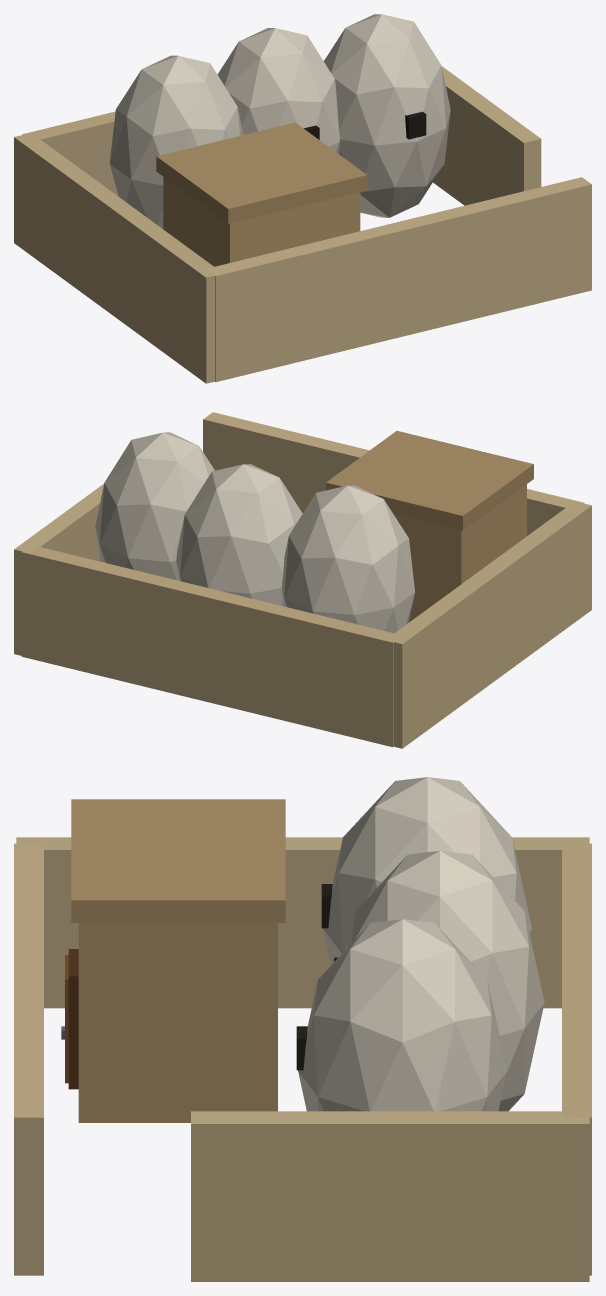
The model's file is gnoll_house_c_broken.glb.
3 views of the same model, one above another, from view 1: azimuth 30°, elevation 25°; view 2: azimuth 150°, elevation 25°; view 3: azimuth 270°, elevation 25° (orthographic). The views are drawn at different scales.
Visible parts, largest first — view 1: gnoll_house_c_piece10, gnoll_house_c_piece2, gnoll_house_c_piece7, gnoll_house_c_piece1, gnoll_house_c_piece9, gnoll_house_c_piece0, gnoll_house_c_piece5, gnoll_house_c_piece4, gnoll_house_c_piece6, gnoll_house_c_piece3, gnoll_house_c_piece8; view 2: gnoll_house_c_piece1, gnoll_house_c_piece3, gnoll_house_c_piece8, gnoll_house_c_piece7, gnoll_house_c_piece2, gnoll_house_c_piece4, gnoll_house_c_piece10, gnoll_house_c_piece0, gnoll_house_c_piece9, gnoll_house_c_piece5; view 3: gnoll_house_c_piece4, gnoll_house_c_piece0, gnoll_house_c_piece2, gnoll_house_c_piece6, gnoll_house_c_piece3, gnoll_house_c_piece1, gnoll_house_c_piece7, gnoll_house_c_piece10, gnoll_house_c_piece9, gnoll_house_c_piece8, gnoll_house_c_piece5.
Part boxes in pixels (left/top/right/bottom): gnoll_house_c_piece10: left=366, top=177, right=591, bottom=344; gnoll_house_c_piece2: left=86, top=32, right=331, bottom=315; gnoll_house_c_piece7: left=114, top=157, right=271, bottom=383; gnoll_house_c_piece1: left=14, top=55, right=246, bottom=310; gnoll_house_c_piece9: left=231, top=173, right=370, bottom=371; gnoll_house_c_piece0: left=261, top=143, right=425, bottom=334; gnoll_house_c_piece5: left=281, top=54, right=541, bottom=164; gnoll_house_c_piece4: left=332, top=14, right=532, bottom=181; gnoll_house_c_piece6: left=353, top=147, right=541, bottom=217; gnoll_house_c_piece3: left=240, top=28, right=366, bottom=214; gnoll_house_c_piece8: left=217, top=41, right=247, bottom=79; gnoll_house_c_piece1: left=198, top=486, right=493, bottom=748; gnoll_house_c_piece3: left=14, top=464, right=286, bottom=673; gnoll_house_c_piece8: left=90, top=491, right=289, bottom=699; gnoll_house_c_piece7: left=407, top=462, right=591, bottom=676; gnoll_house_c_piece2: left=245, top=464, right=519, bottom=681; gnoll_house_c_piece4: left=14, top=432, right=207, bottom=590; gnoll_house_c_piece10: left=203, top=412, right=369, bottom=513; gnoll_house_c_piece0: left=354, top=431, right=483, bottom=476; gnoll_house_c_piece9: left=446, top=452, right=567, bottom=535; gnoll_house_c_piece5: left=204, top=455, right=378, bottom=481; gnoll_house_c_piece4: left=214, top=919, right=591, bottom=1281; gnoll_house_c_piece0: left=14, top=835, right=265, bottom=1122; gnoll_house_c_piece2: left=197, top=777, right=431, bottom=1111; gnoll_house_c_piece6: left=191, top=1083, right=450, bottom=1281; gnoll_house_c_piece3: left=417, top=850, right=591, bottom=1281; gnoll_house_c_piece1: left=329, top=777, right=591, bottom=1008; gnoll_house_c_piece7: left=14, top=799, right=290, bottom=1111; gnoll_house_c_piece10: left=14, top=984, right=43, bottom=1275; gnoll_house_c_piece9: left=14, top=805, right=225, bottom=1122; gnoll_house_c_piece8: left=471, top=854, right=591, bottom=1111; gnoll_house_c_piece5: left=191, top=875, right=358, bottom=1156.
Size of the model in its own units: 2.72 by 1.34 by 2.32.
